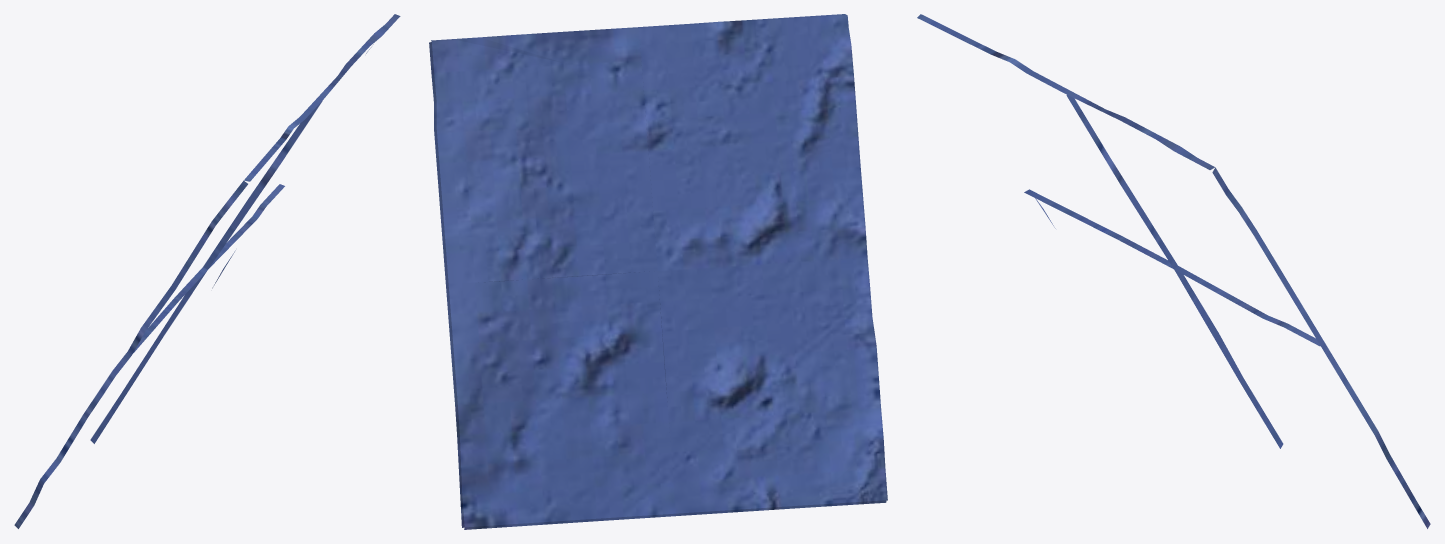
3 renders of one model, left to right at view 1: azimuth 30°, elevation 25°; view 2: azimuth 150°, elevation 25°; view 3: azimuth 270°, elevation 25°, orthographic. The views are drawn at different scales.
Size of the model in its own units: 156433 by 137522 by 148079.
Materials: 1 (1 with a texture image).
